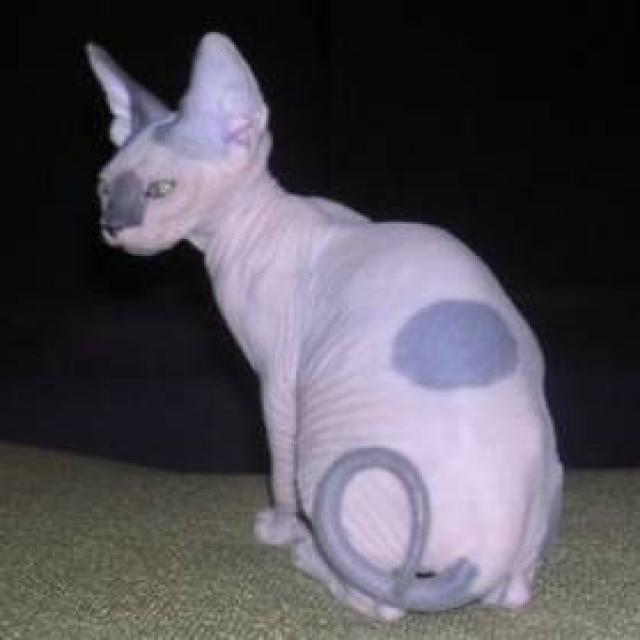Sphynx: (72, 21, 284, 266)
